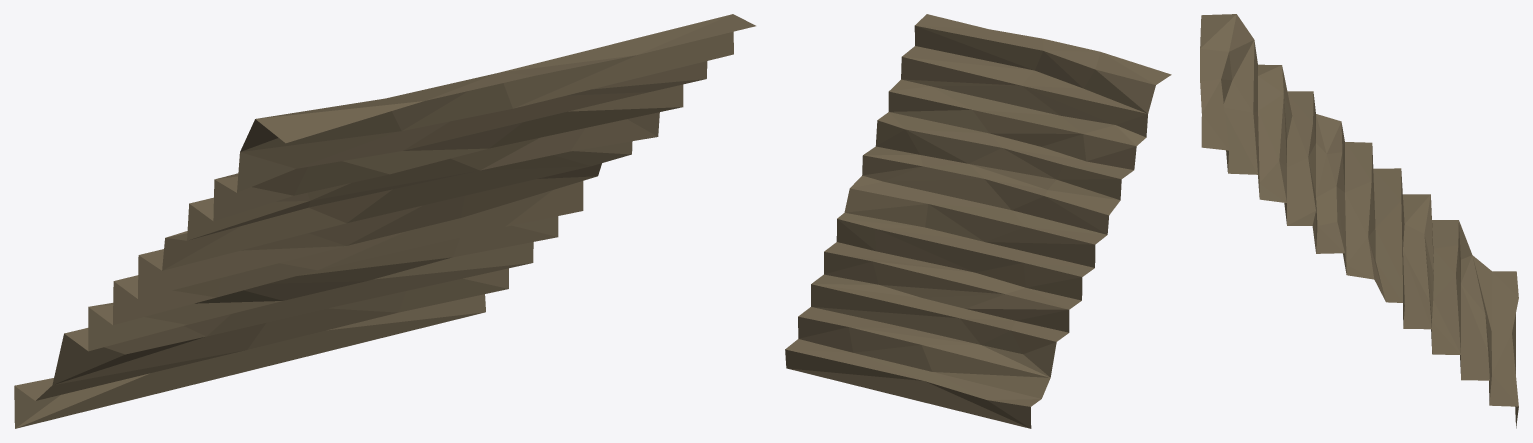
File: Stairs_Medium_low.fbx
3 views of the same model, side by side, from view 1: azimuth 30°, elevation 25°; view 2: azimuth 150°, elevation 25°; view 3: azimuth 270°, elevation 25° (orthographic). The views are drawn at different scales.
Parts seen in each view (by area): view 1: Stairs_Medium; view 2: Stairs_Medium; view 3: Stairs_Medium.
Part boxes in pixels (x1,y1,x2,y2): Stairs_Medium: (14, 14, 755, 428); Stairs_Medium: (785, 14, 1171, 428); Stairs_Medium: (1200, 14, 1518, 428).
Bounding box in the file's own units: 2.01 × 2 × 2.02.
